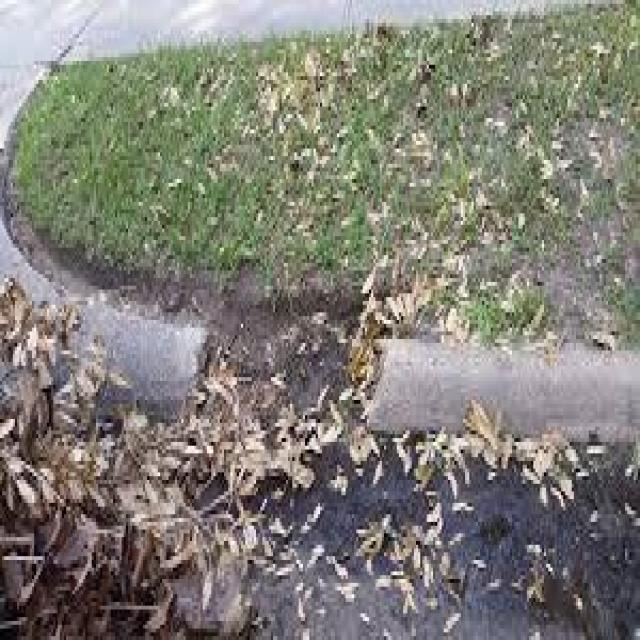curb: (4, 208, 214, 433), (360, 338, 636, 460)
